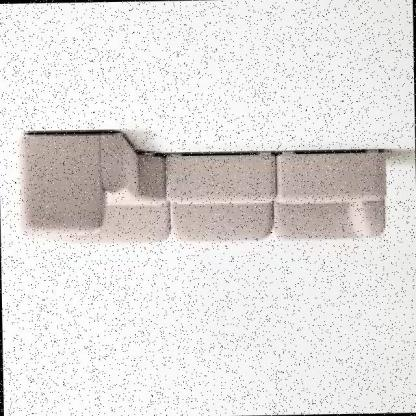Sofa: (3, 95, 408, 272)
